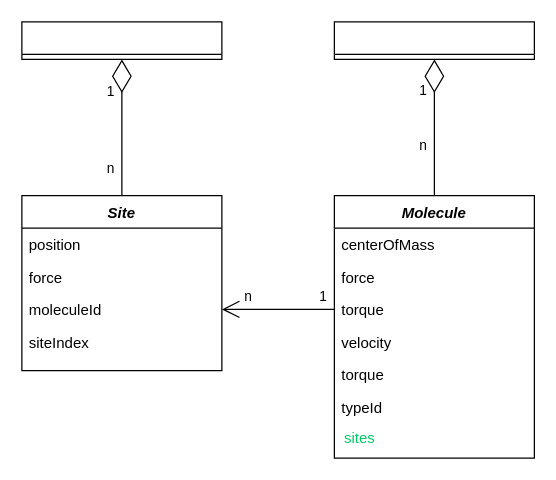
Some shapes in this 556 by 480 pixel diagram are drawn without their labels. The shapes that lost their labels are listed below. From the top down, each one's centre as x and y in pixels, then its label:
At point 121,40: "SiteContainer".
At point 433,40: "AutoPasContainer".
